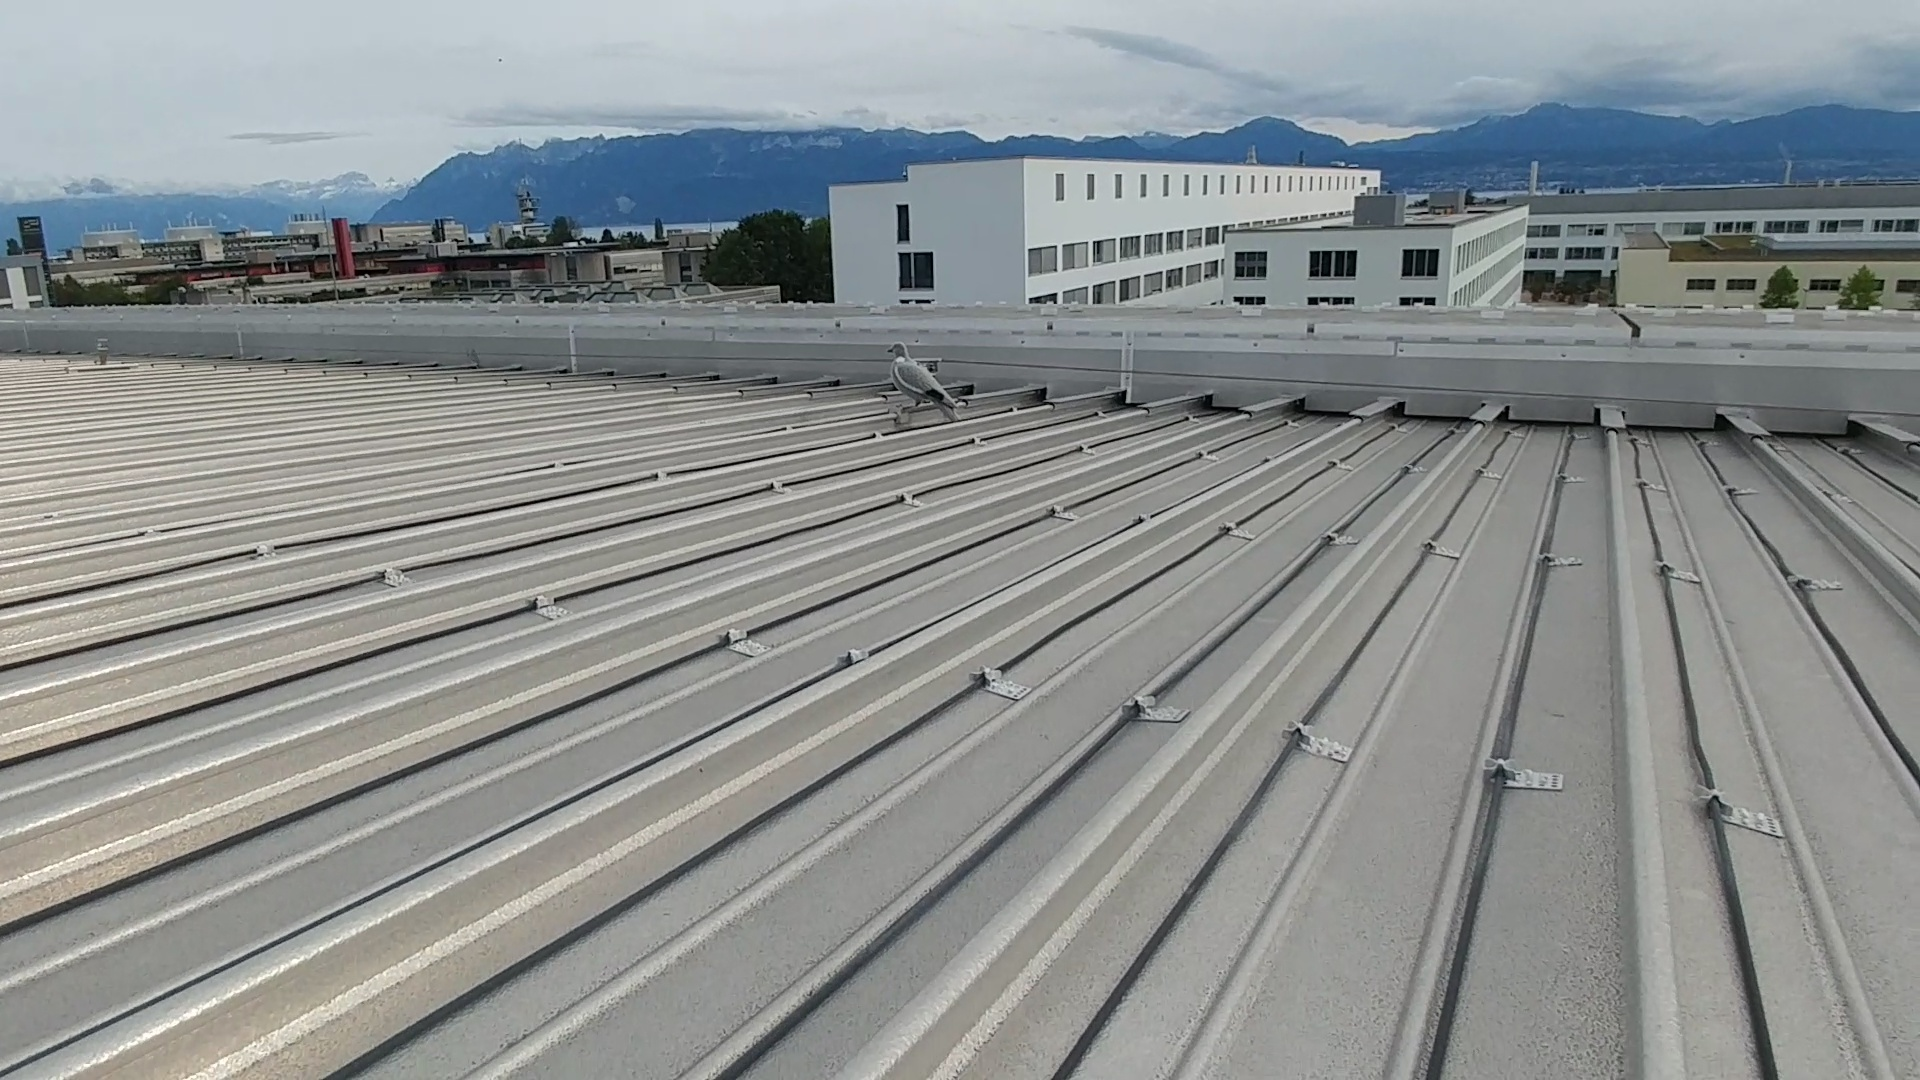Pigeon: (882, 342, 960, 415)
